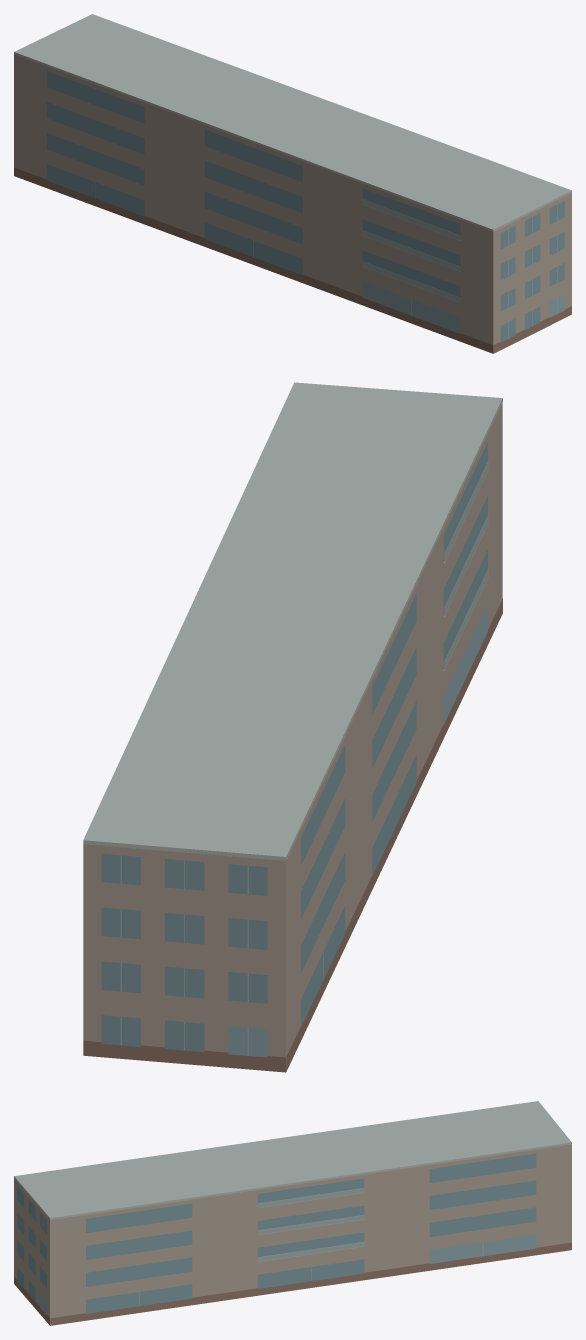
The model's file is survey-upis-32838480.glb.
3 views of the same model, one above another, from view 1: azimuth 30°, elevation 25°; view 2: azimuth 150°, elevation 25°; view 3: azimuth 270°, elevation 25° (orthographic). The views are drawn at different scales.
Parts seen in each view (by area): view 1: survey-upis-32838480.tmp; view 2: survey-upis-32838480.tmp; view 3: survey-upis-32838480.tmp.
Part boxes in pixels (x1,y1,x2,y2): survey-upis-32838480.tmp: [14, 14, 571, 353]; survey-upis-32838480.tmp: [83, 382, 502, 1072]; survey-upis-32838480.tmp: [14, 1101, 571, 1325].
Bounding box in the file's own units: 30.56 × 13.1 × 61.5.
